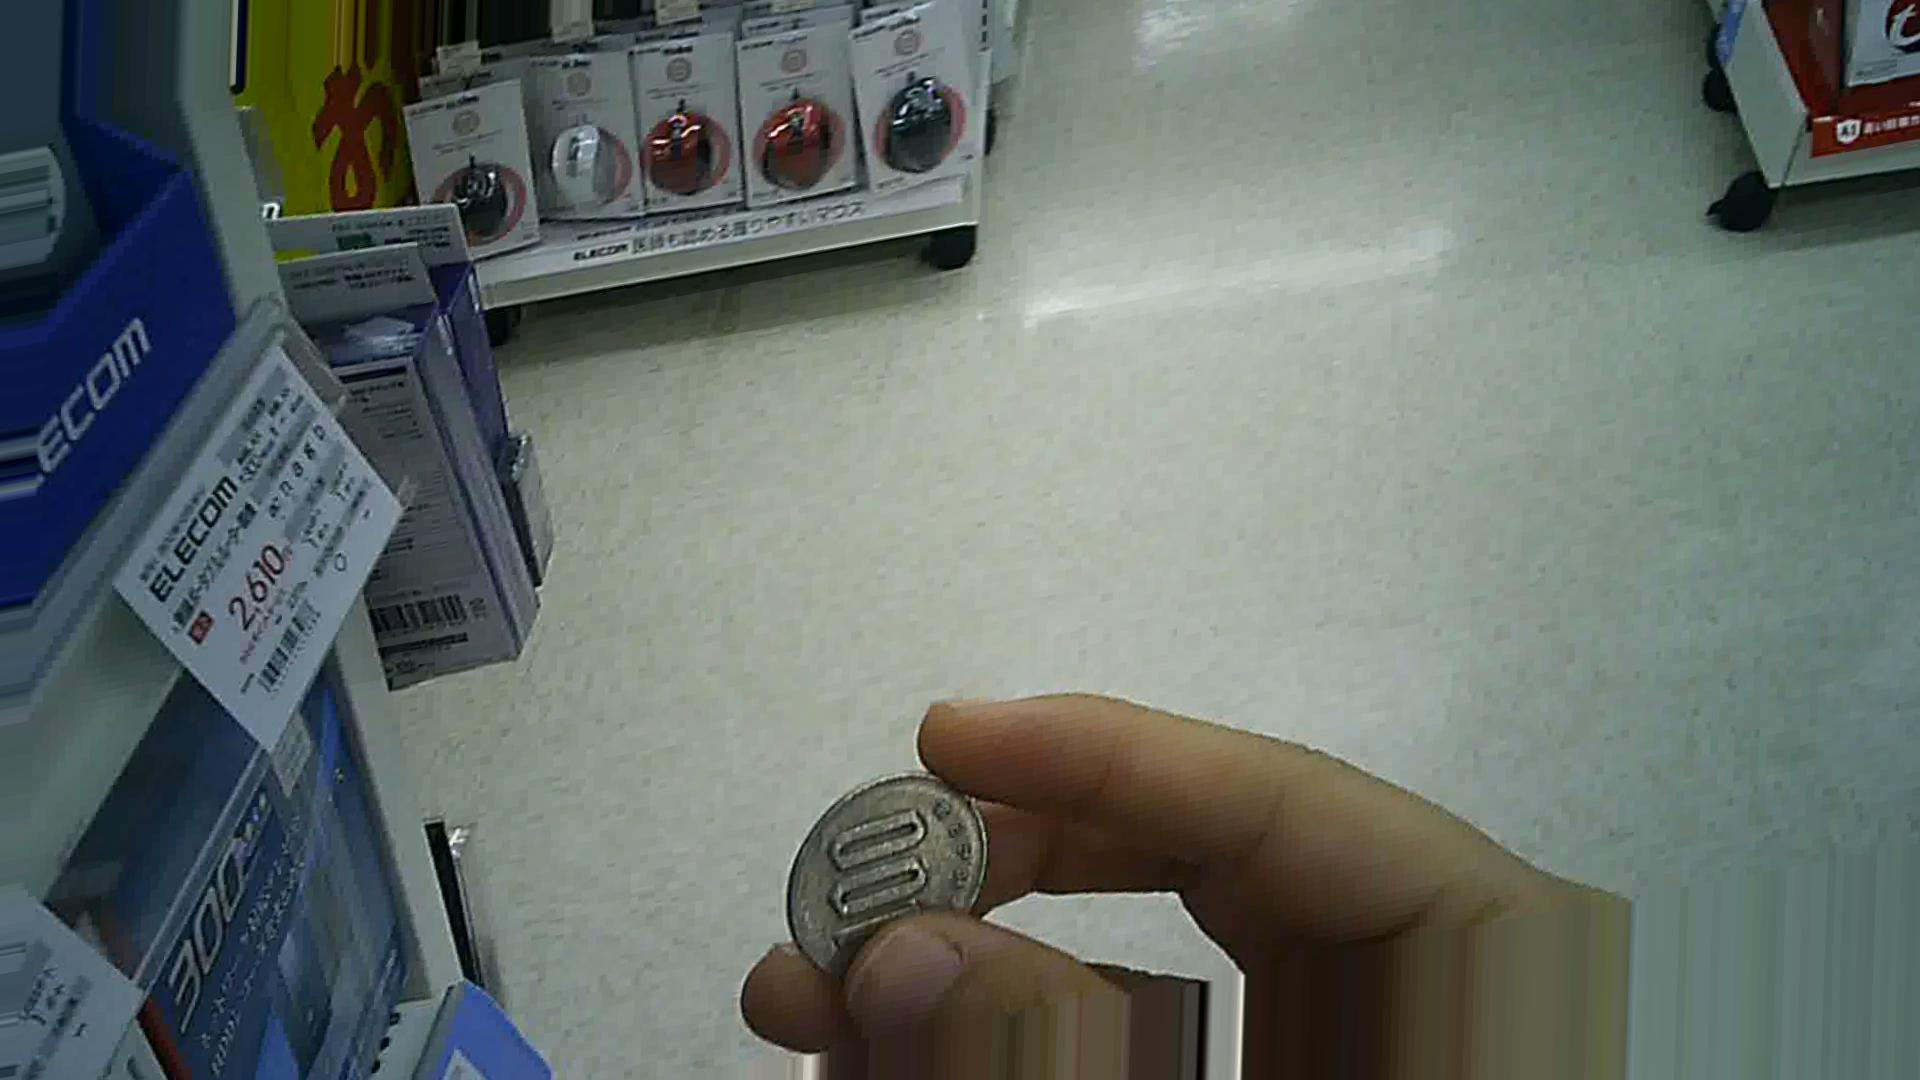100 Yen: (774, 774, 986, 967)
